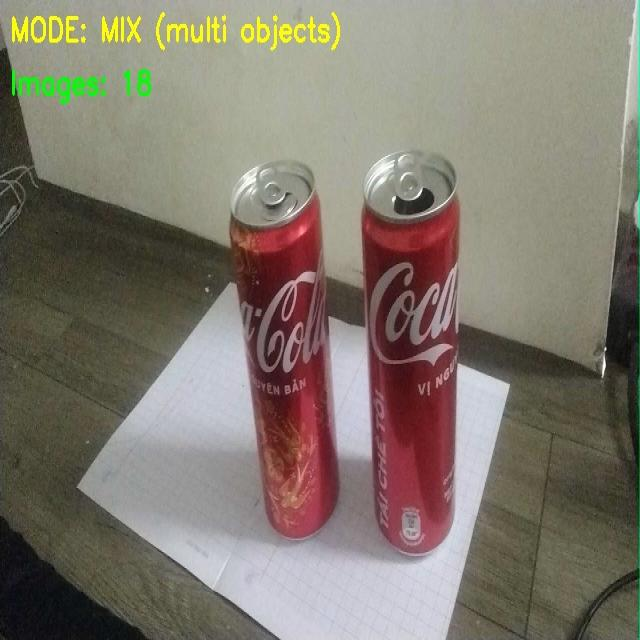Coca: (211, 137, 350, 560)
Coca_open: (369, 142, 496, 557)
